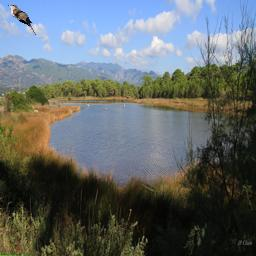Cuckoo: (6, 5, 36, 36)
